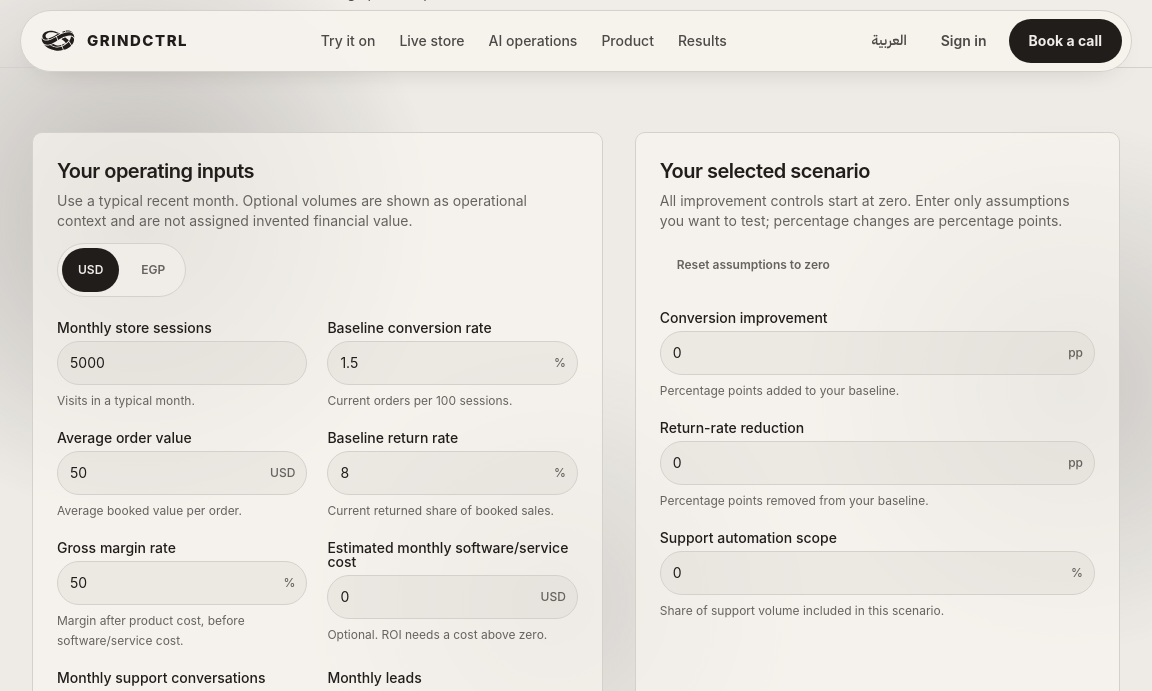
RoiPageContent › resets scenario controls to zero
The width and height of the screenshot is (1152, 691).
(page scrolled)
Replace the text in the number field labelled "Conversion improvement" with "5" at (877, 353), box x1=660 y1=331 x2=1095 y2=375
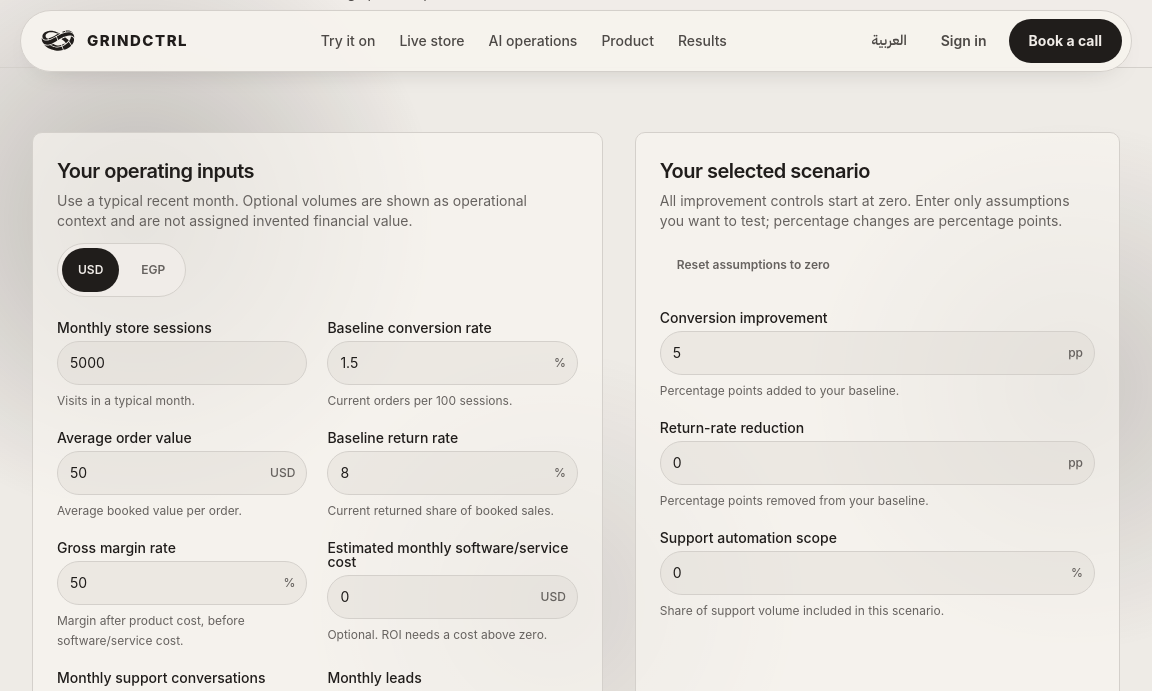
Click the button "Reset assumptions to zero" at (753, 265), box x1=660 y1=243 x2=847 y2=287
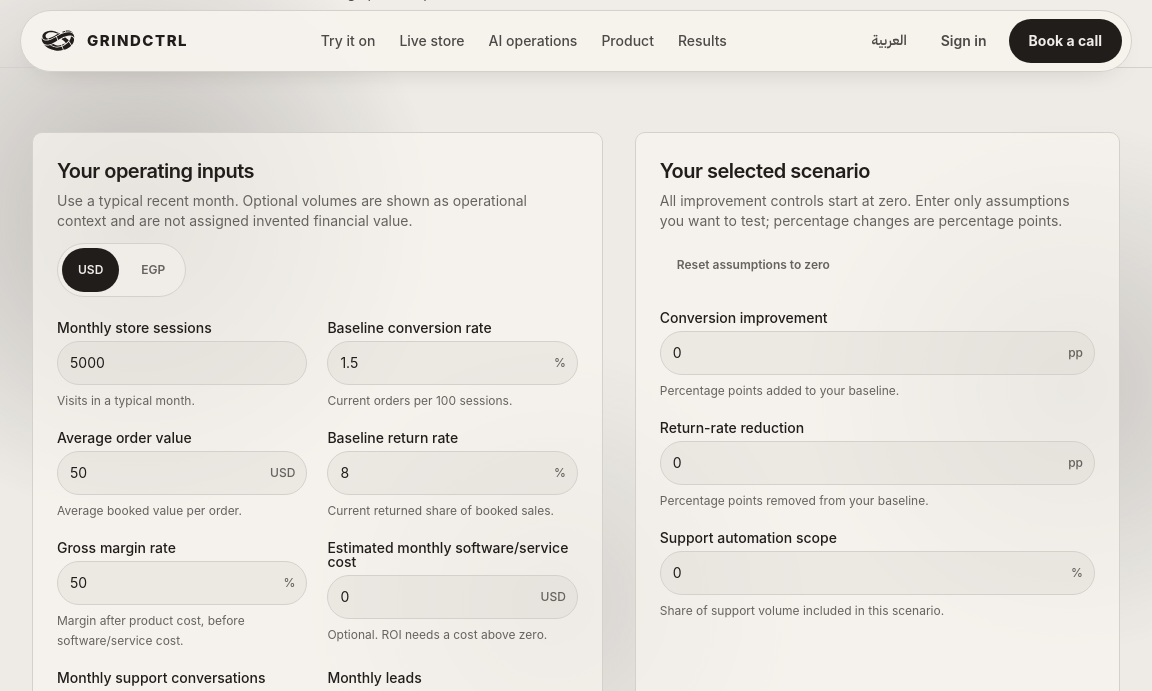
Now the number field labelled "Conversion improvement" holds "0", box x1=660 y1=331 x2=1095 y2=375
